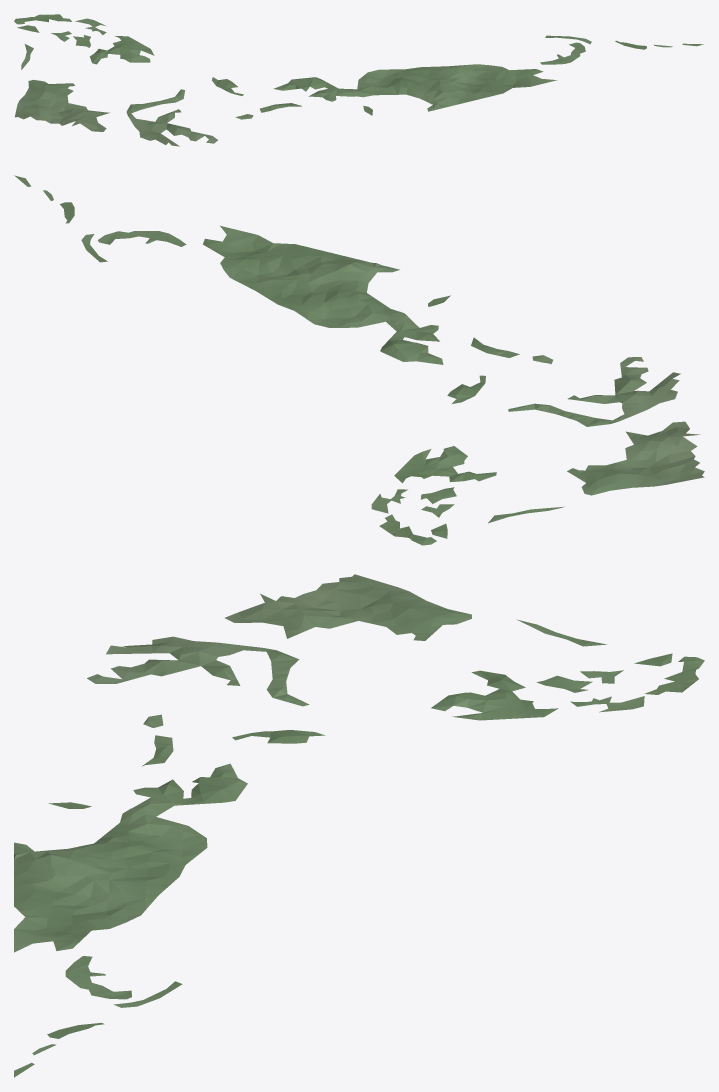
3 views of the same model, one above another, from view 1: azimuth 30°, elevation 25°; view 2: azimuth 150°, elevation 25°; view 3: azimuth 270°, elevation 25° (orthographic). The views are drawn at different scales.
Parts seen in each view (by area): view 1: 海岛雨林; view 2: 海岛雨林; view 3: 海岛雨林.
Part boxes in pixels (x1,y1,x2,y2): 海岛雨林: (14, 14, 703, 146); 海岛雨林: (14, 175, 704, 545); 海岛雨林: (14, 574, 704, 1077).
Size of the model in its own units: 41.95 by 0.5729 by 24.33.
